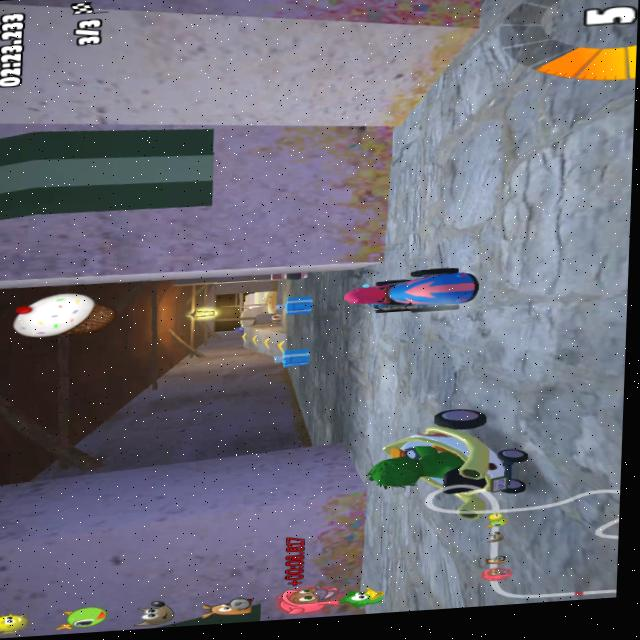bonus: (278, 341, 315, 370), (280, 291, 315, 315)
power_up: (260, 332, 280, 353), (246, 331, 260, 346)
